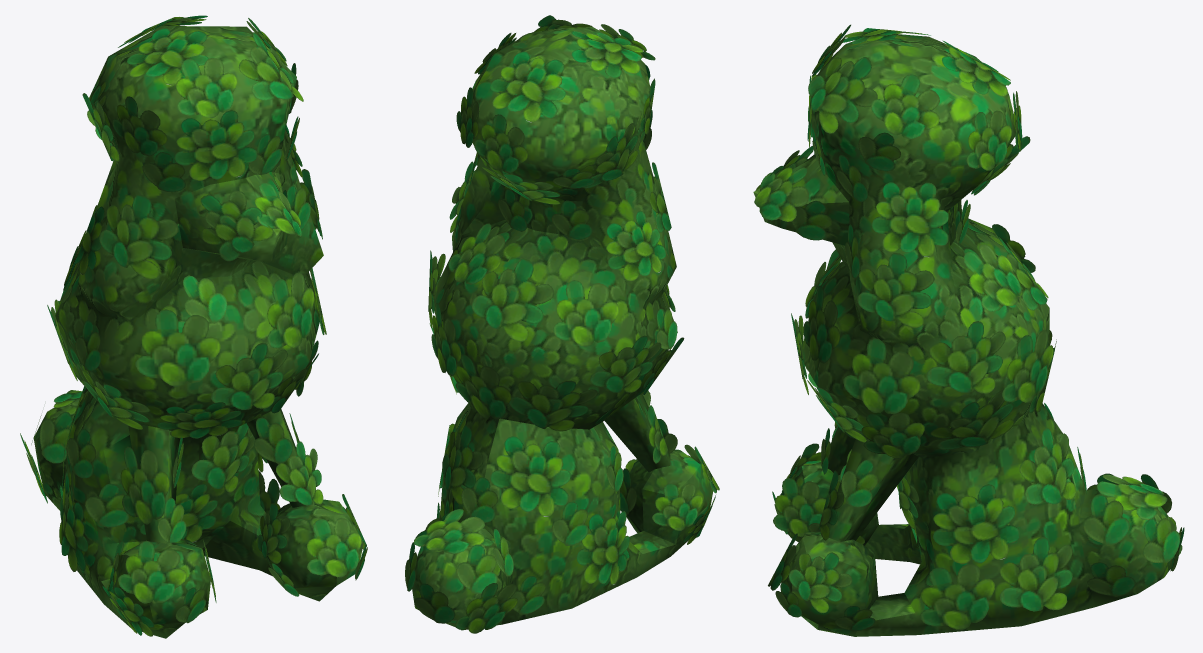
Rendered from syj_zxzhiwu05.fbx.
The picture shows the model from 3 angles, left to right: view 1: azimuth 30°, elevation 25°; view 2: azimuth 150°, elevation 25°; view 3: azimuth 270°, elevation 25°; orthographic projection. The views are drawn at different scales.
Parts seen in each view (by area): view 1: syj_zxzhiwu05; view 2: syj_zxzhiwu05; view 3: syj_zxzhiwu05.
Boxes of the visible parts, x1,y1,x2,y2 form: syj_zxzhiwu05: (20, 15, 367, 638); syj_zxzhiwu05: (405, 15, 719, 633); syj_zxzhiwu05: (753, 24, 1184, 636).
Bounding box in the file's own units: 63.55 × 134 × 95.31.
